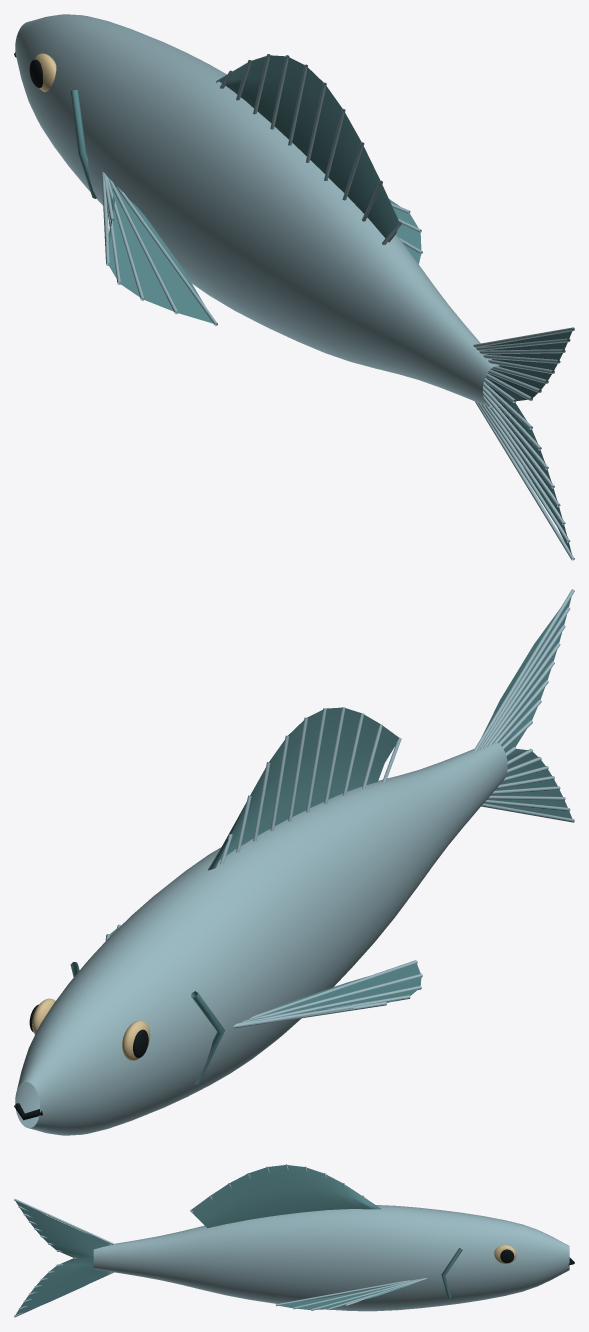
Rendered from lanternfish.glb.
3 views of the same model, one above another, from view 1: azimuth 30°, elevation 25°; view 2: azimuth 150°, elevation 25°; view 3: azimuth 270°, elevation 25° (orthographic). The views are drawn at different scales.
Visible parts, largest first — view 1: FishSkin, FishFin; view 2: FishSkin, FishFin, Iris; view 3: FishSkin, FishFin.
Boxes of the visible parts, x1,y1,x2,y2 form: FishSkin: (15,14,574,560); FishFin: (70,55,572,554); FishSkin: (15,589,574,1135); FishFin: (70,597,572,1084); Iris: (32,998,150,1060); FishSkin: (14,1164,569,1317); FishFin: (15,1165,462,1314).
Bounding box in the file's own units: 0.5863 × 0.5737 × 1.91.
